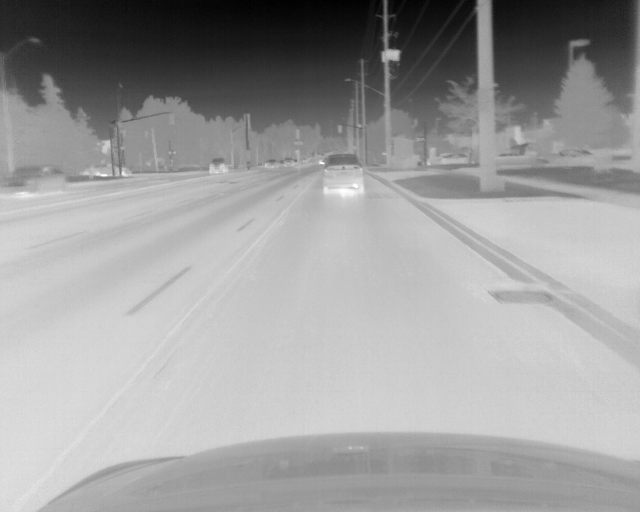car: (1, 164, 66, 196), (323, 155, 364, 194), (209, 159, 227, 173)
